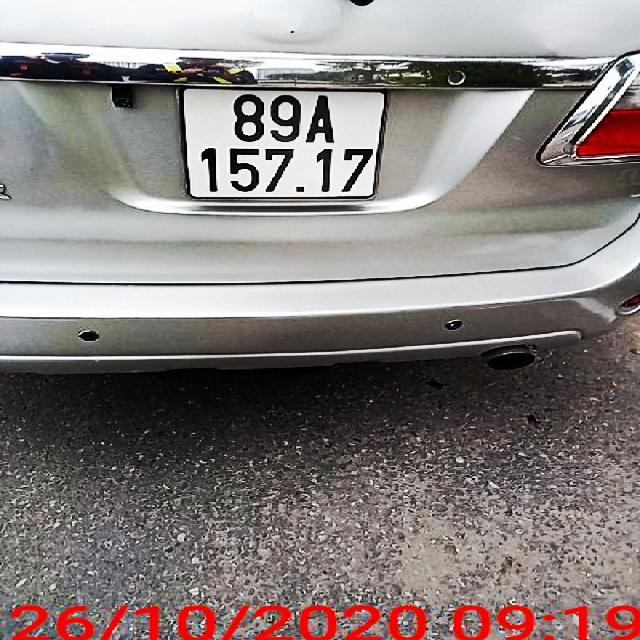license_plate: (189, 91, 384, 198)
